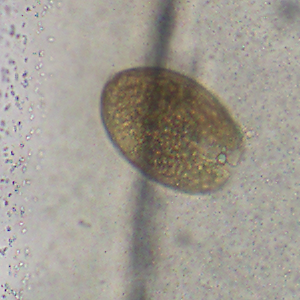Fasciola_hepatica_egg: (98, 65, 248, 196)
